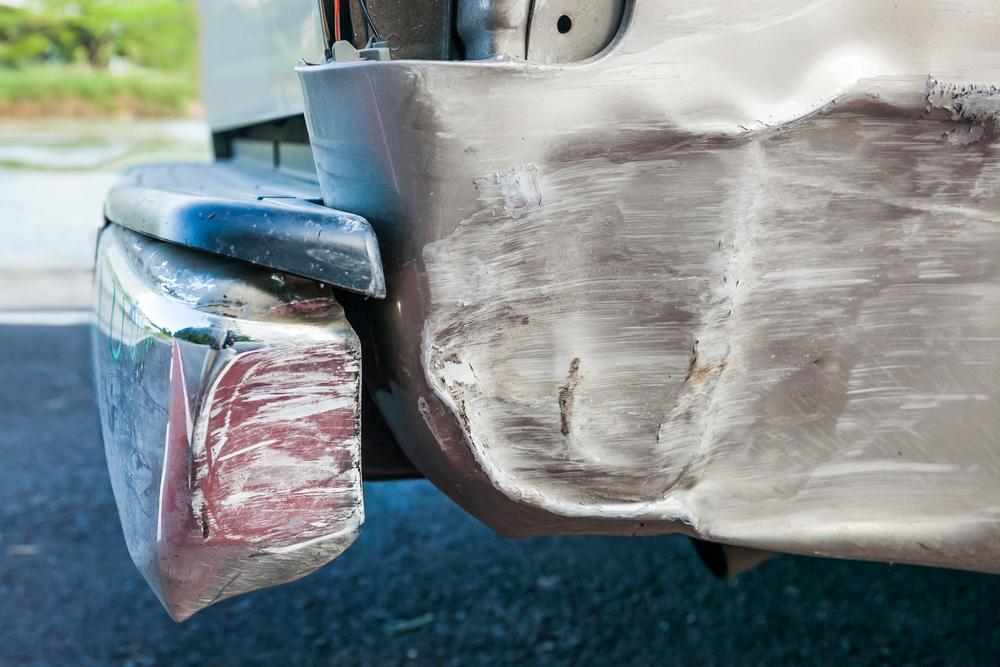dent: (404, 25, 1000, 566)
scratch: (179, 341, 361, 599)
